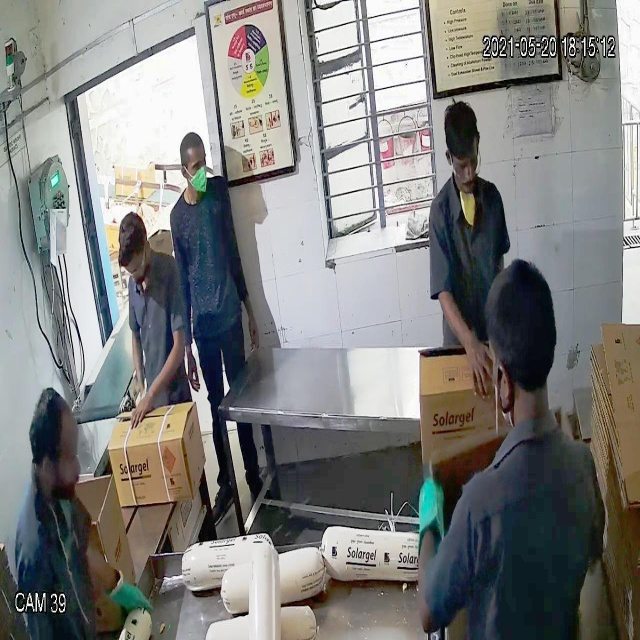Gafas: (441, 142, 485, 186)
Sin_gafas: (180, 153, 211, 179)
